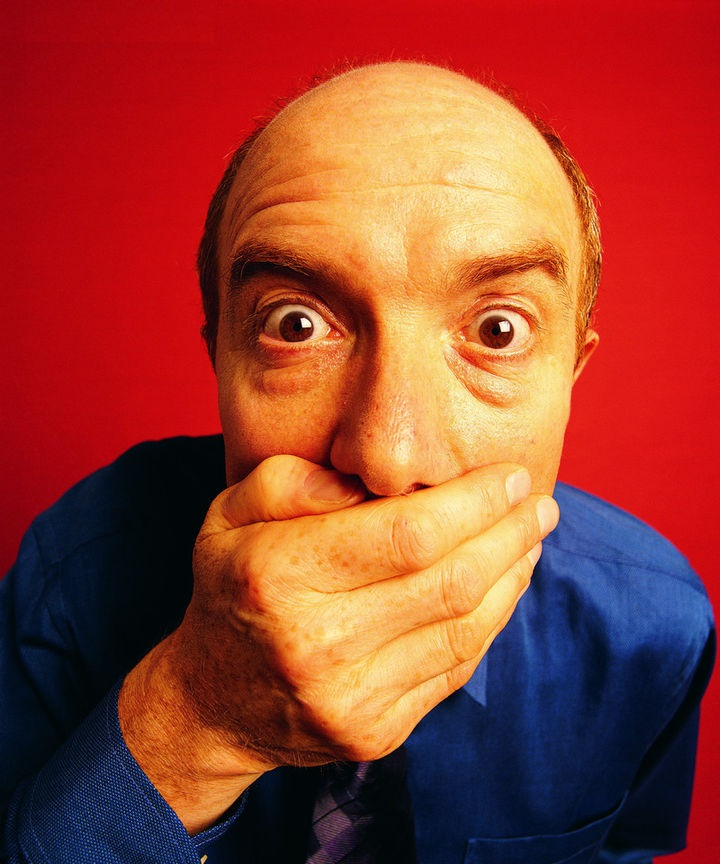face_mask: (210, 87, 573, 696)
